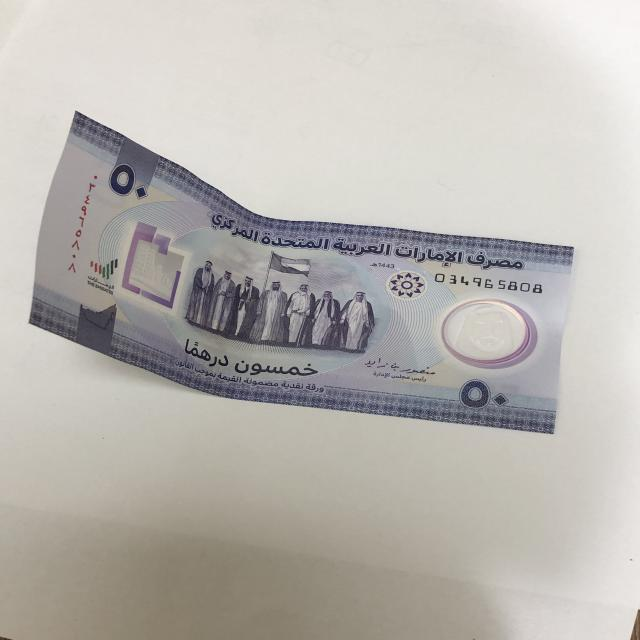50_AED: (26, 110, 577, 438)
